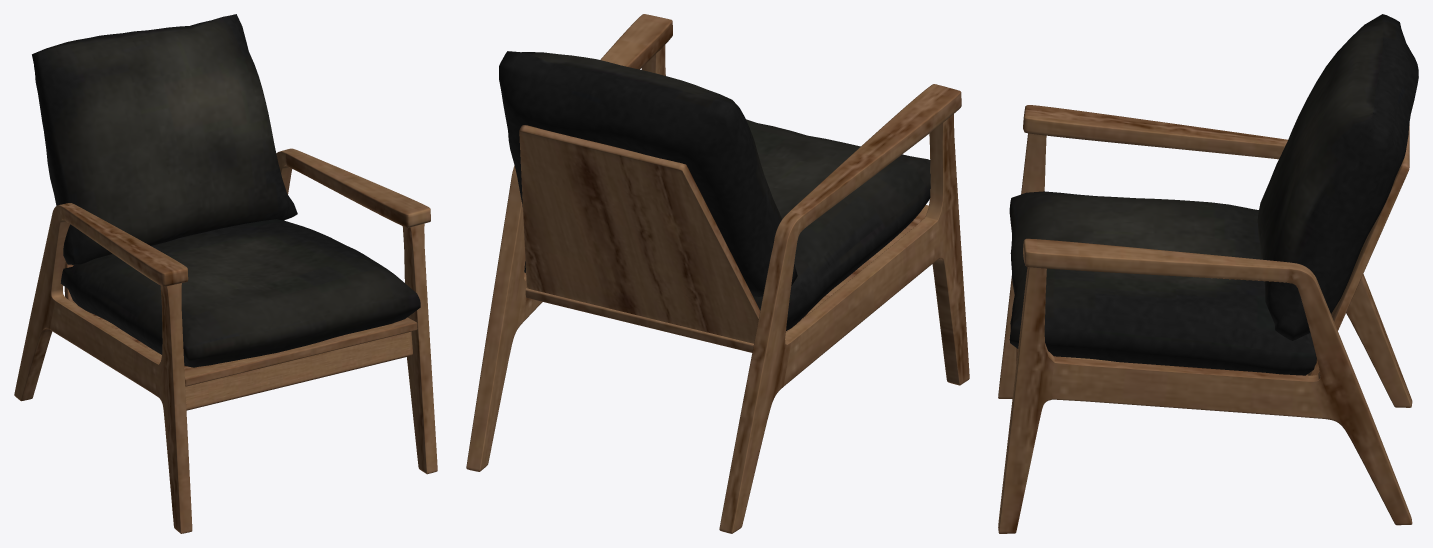
The model's file is modern_arm_chair_01.gltf.
3 renders of one model, left to right at view 1: azimuth 30°, elevation 25°; view 2: azimuth 150°, elevation 25°; view 3: azimuth 270°, elevation 25°, orthographic. The views are drawn at different scales.
Visible parts, largest first — view 1: modern_arm_chair_01; view 2: modern_arm_chair_01; view 3: modern_arm_chair_01.
Boxes of the visible parts, x1,y1,x2,y2 form: modern_arm_chair_01: (14, 14, 437, 533); modern_arm_chair_01: (466, 14, 969, 533); modern_arm_chair_01: (998, 14, 1418, 533).
Size of the model in its own units: 0.8203 by 1.02 by 0.9866.
Materials: 2 (2 with a texture image).
